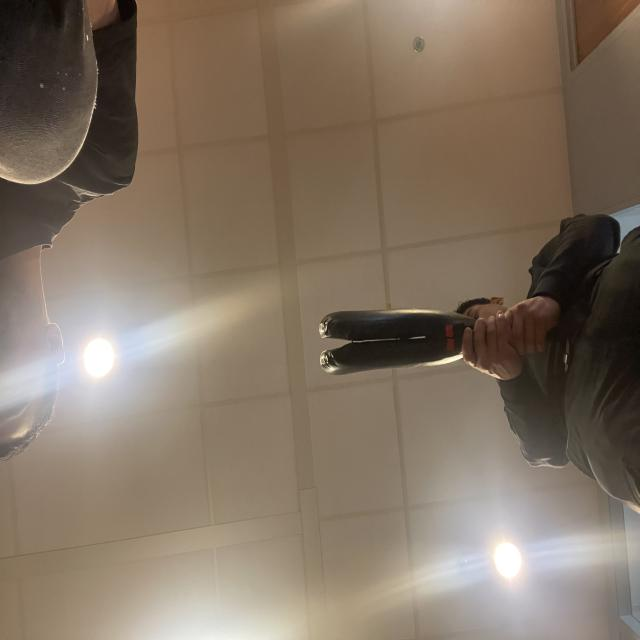paddle: (318, 310, 449, 375)
